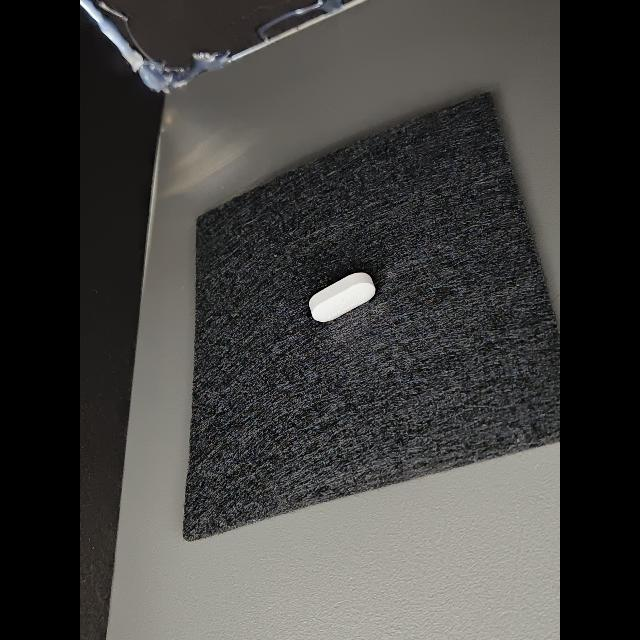Intact Pill: (309, 273, 375, 322)
